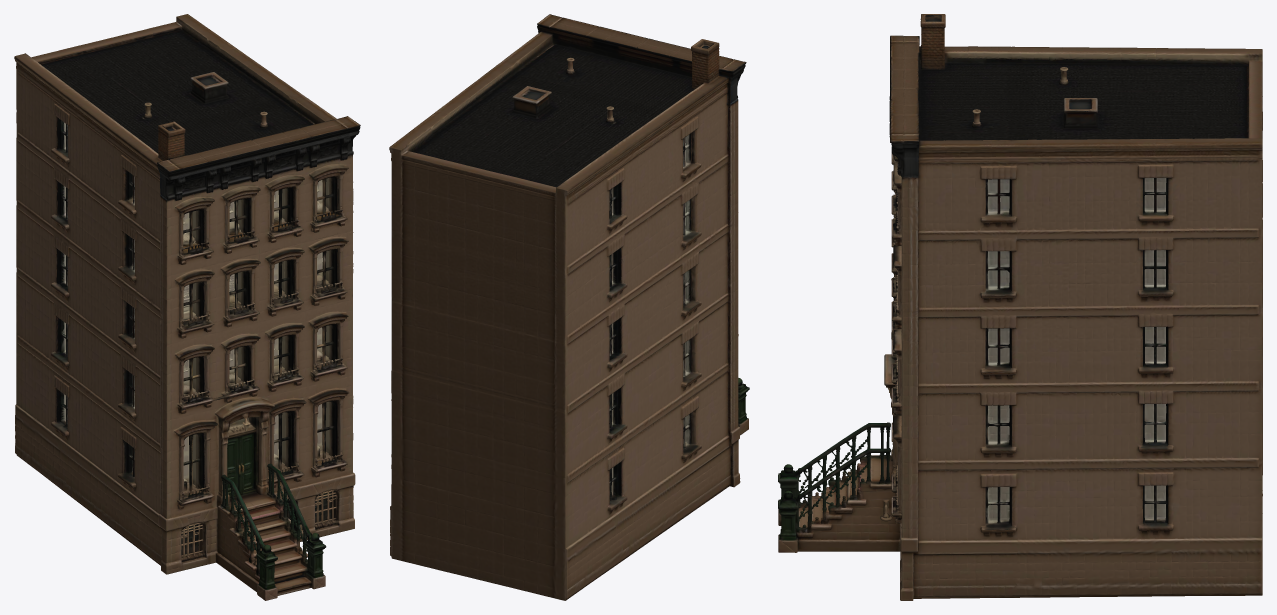
File: tripo_convert_4ea85563-44f0-4e48-ae53-fa8feac21a8a.fbx
The picture shows the model from 3 angles, left to right: view 1: azimuth 30°, elevation 25°; view 2: azimuth 150°, elevation 25°; view 3: azimuth 270°, elevation 25°; orthographic projection. The views are drawn at different scales.
Visible parts, largest first — view 1: tripo_node_4ea85563; view 2: tripo_node_4ea85563; view 3: tripo_node_4ea85563.
Part boxes in pixels (x1=…): tripo_node_4ea85563: x1=14, y1=14, x2=360, y2=600; tripo_node_4ea85563: x1=389, y1=14, x2=749, y2=600; tripo_node_4ea85563: x1=778, y1=14, x2=1262, y2=600.
Bounding box in the file's own units: 0.4561 × 0.9784 × 0.8786.
Materials: 1 (1 with a texture image).
